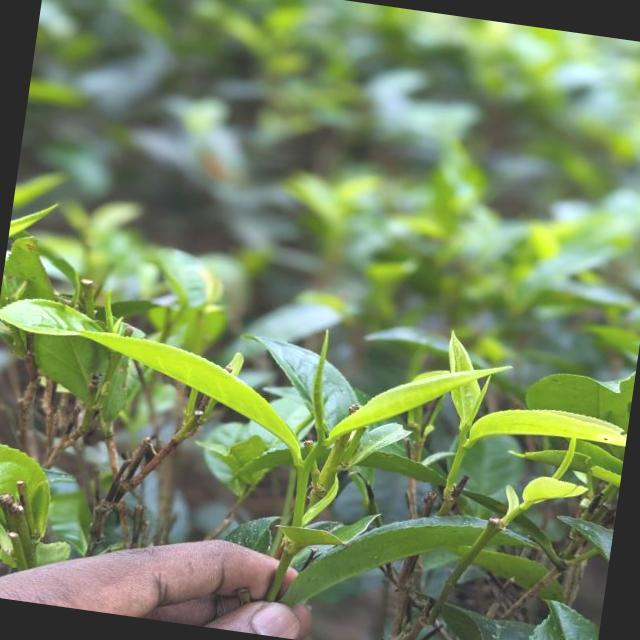Stem: (298, 463, 310, 477), (460, 429, 466, 439)
